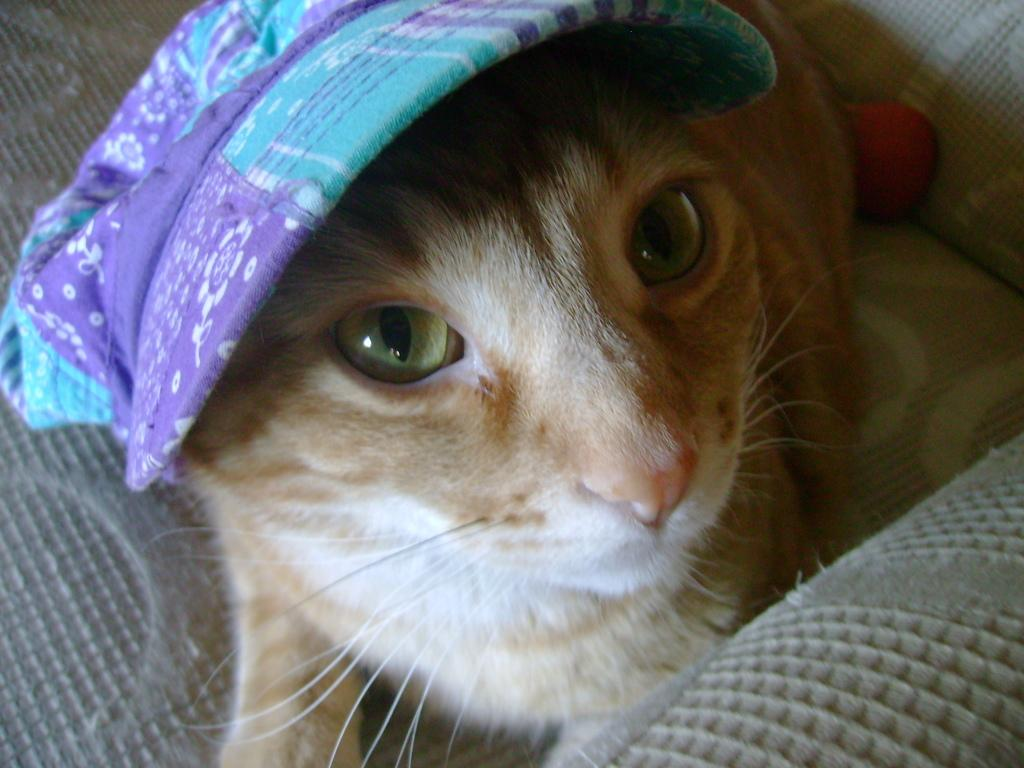Hat: (0, 0, 777, 492)
